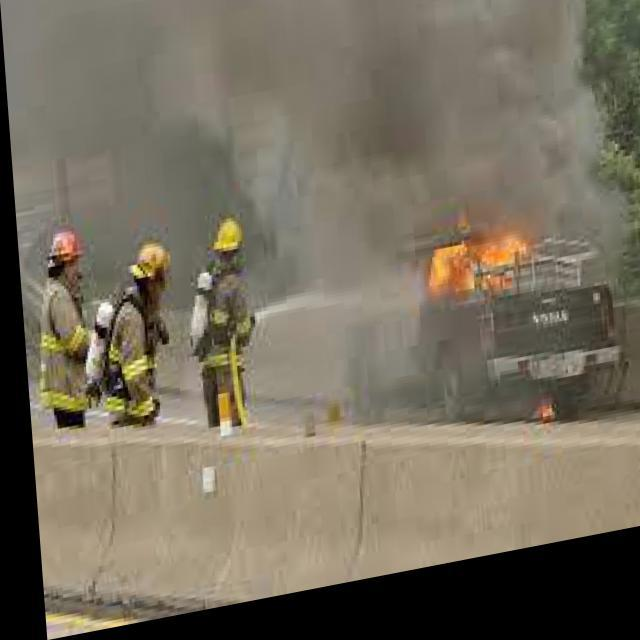Fire: (402, 216, 534, 344)
